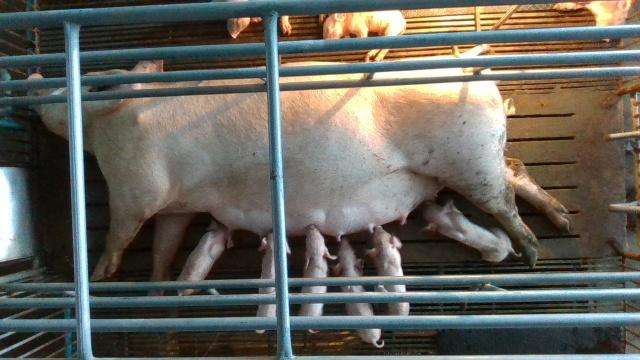piglet: (419, 201, 522, 263), (333, 238, 385, 348), (323, 9, 406, 63), (299, 223, 337, 333), (175, 223, 233, 294), (367, 226, 409, 316), (258, 231, 291, 332)
sow-sleep-lactate: (26, 44, 572, 294)
